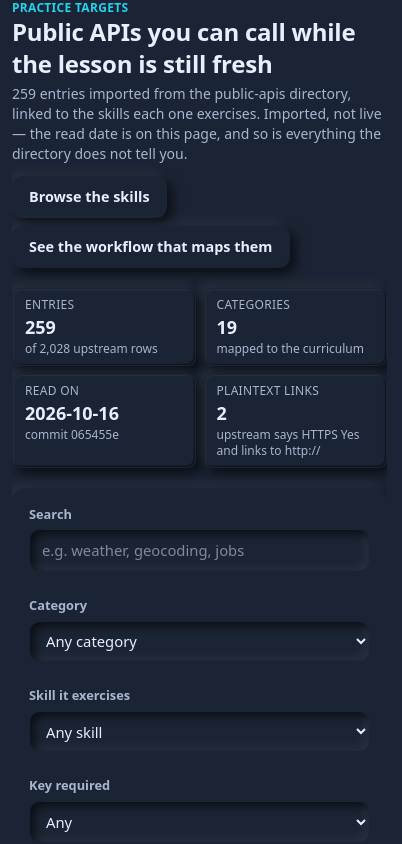
Test: the public-API catalogue page › filters by search, by category, by skill and by key requirement — and keeps the filter in the URL
This screenshot has width=402, height=844.
Type "weather" into the field labelled "Search".
click(200, 551); type("weather")  # box x1=29 y1=530 x2=370 y2=572
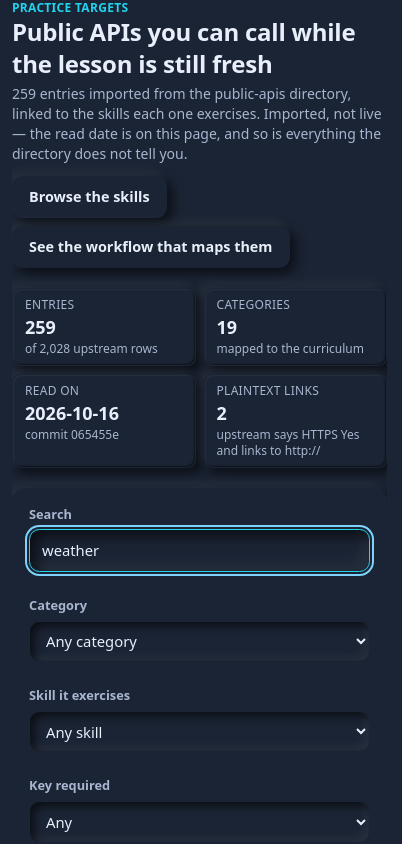
Select "Weather" in the dropdown labelled "Category" at (200, 641), box x1=29 y1=621 x2=370 y2=662
(page scrolled)
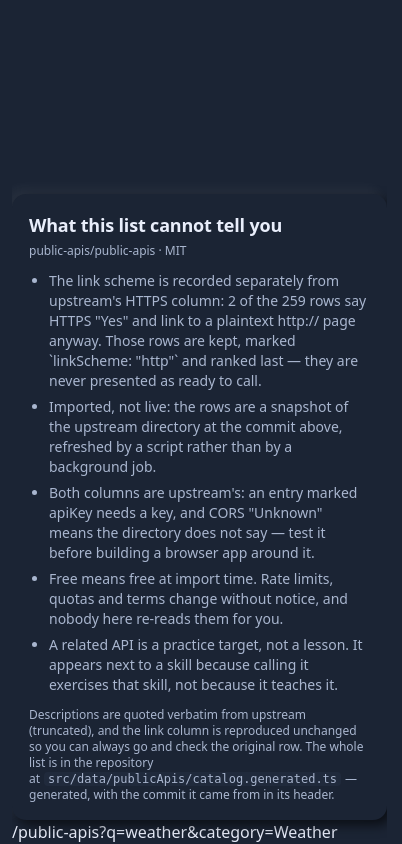
Expected: the text with test id "location" shows "category=Weather", x1=12 y1=821 x2=338 y2=843
